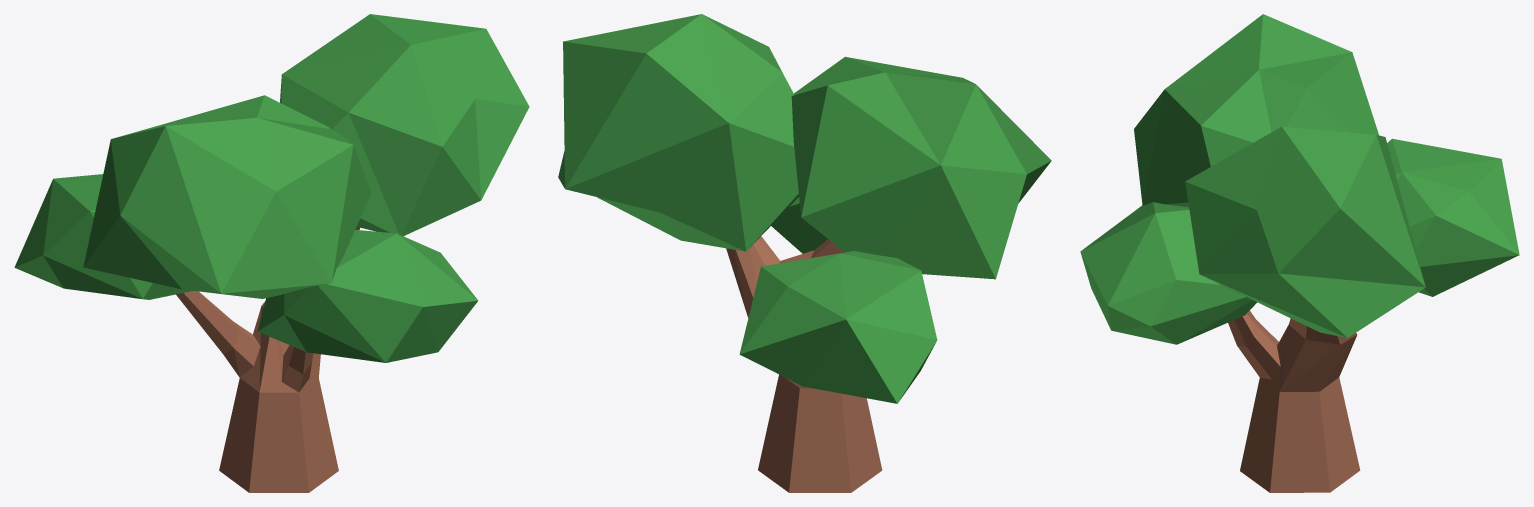
The model's file is bush2.obj.
The picture shows the model from 3 angles, left to right: view 1: azimuth 30°, elevation 25°; view 2: azimuth 150°, elevation 25°; view 3: azimuth 270°, elevation 25°; orthographic projection. The views are drawn at different scales.
Bounding box in the file's own units: 7.1 × 6.47 × 6.36.
